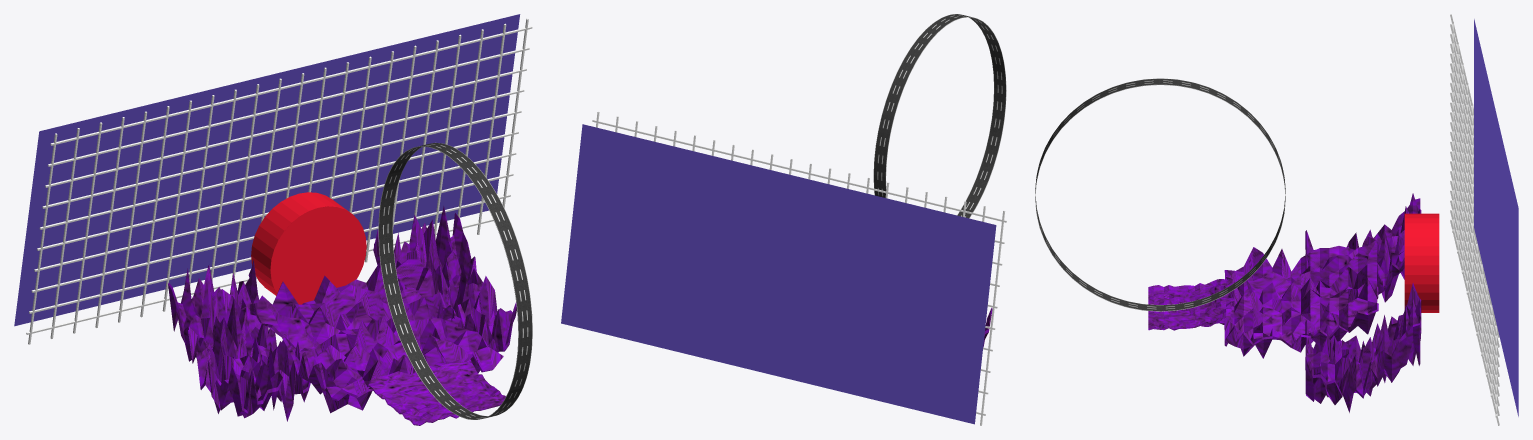
Rendered from Homepage 1.fbx.
The picture shows the model from 3 angles, left to right: view 1: azimuth 30°, elevation 25°; view 2: azimuth 150°, elevation 25°; view 3: azimuth 270°, elevation 25°; orthographic projection. The views are drawn at different scales.
Visible parts, largest first — view 1: Plane, Cube, Plane.Middle, Plane.Left, Sun, Cube.002, Plane.Right, Plane.Foreground; view 2: Plane, Cube.002, Cube; view 3: Plane.Middle, Plane, Cube, Plane.Right, Cube.002, Sun, Plane.Foreground, Plane.Left.
Part boxes in pixels (left/top/right/bottom): Plane: left=14, top=14, right=520, bottom=326; Cube: left=26, top=18, right=532, bottom=344; Plane.Middle: left=249, top=259, right=503, bottom=413; Plane.Left: left=168, top=260, right=310, bottom=421; Sun: left=251, top=192, right=366, bottom=304; Cube.002: left=378, top=142, right=532, bottom=419; Plane.Right: left=373, top=206, right=516, bottom=352; Plane.Foreground: left=364, top=357, right=505, bottom=425; Plane: left=561, top=124, right=996, bottom=424; Cube.002: left=873, top=14, right=1006, bottom=218; Cube: left=592, top=111, right=1006, bottom=425; Plane.Middle: left=1223, top=235, right=1378, bottom=358; Plane: left=1474, top=19, right=1518, bottom=416; Cube: left=1450, top=14, right=1499, bottom=425; Plane.Right: left=1305, top=283, right=1421, bottom=412; Cube.002: left=1035, top=78, right=1285, bottom=311; Sun: left=1404, top=213, right=1439, bottom=312; Plane.Foreground: left=1148, top=276, right=1234, bottom=330; Plane.Left: left=1305, top=193, right=1421, bottom=302.
Bounding box in the file's own units: 12000 × 11689 × 7315.
Materials: 6 (5 with a texture image).
